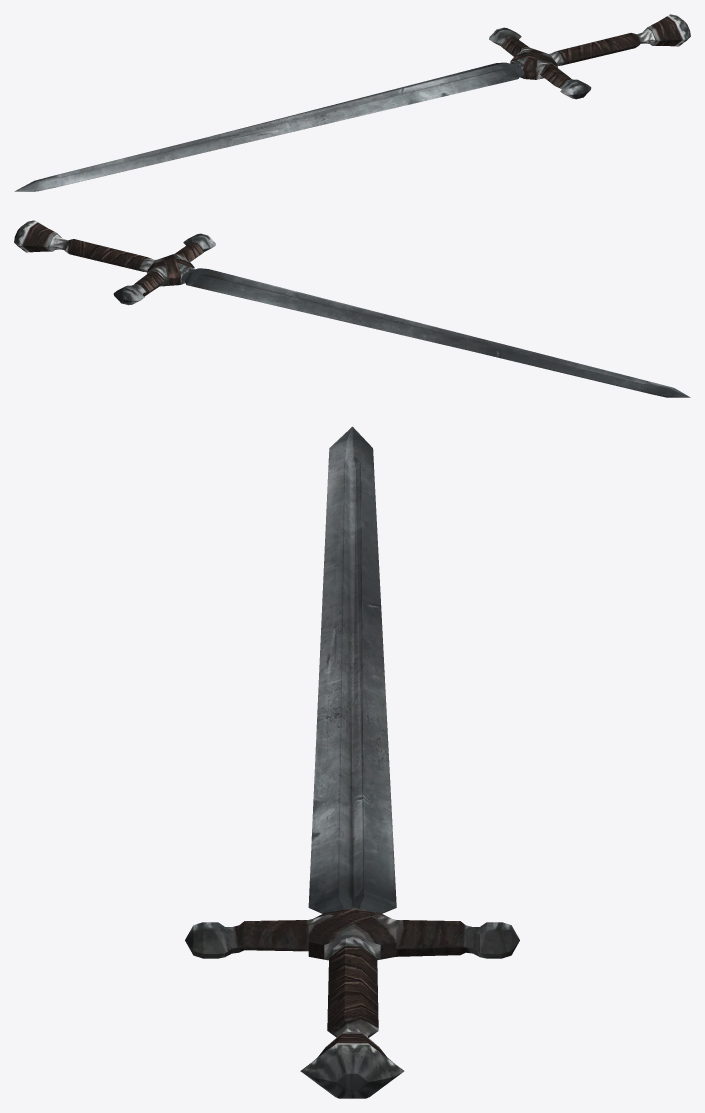
Rendered from KM_ITMW_1H_LEATHERSWORD_01.glb.
3 views of the same model, one above another, from view 1: azimuth 30°, elevation 25°; view 2: azimuth 150°, elevation 25°; view 3: azimuth 270°, elevation 25° (orthographic). The views are drawn at different scales.
Parts seen in each view (by area): view 1: KM_ITMW_1H_LEATHERSWORD_01; view 2: KM_ITMW_1H_LEATHERSWORD_01; view 3: KM_ITMW_1H_LEATHERSWORD_01.
Part boxes in pixels (x1,y1,x2,y2): KM_ITMW_1H_LEATHERSWORD_01: (14, 14, 690, 191); KM_ITMW_1H_LEATHERSWORD_01: (14, 220, 690, 397); KM_ITMW_1H_LEATHERSWORD_01: (185, 426, 519, 1098).
Bounding box in the file's own units: 1.07 × 0.0396 × 0.232.
Materials: 2 (2 with a texture image).
